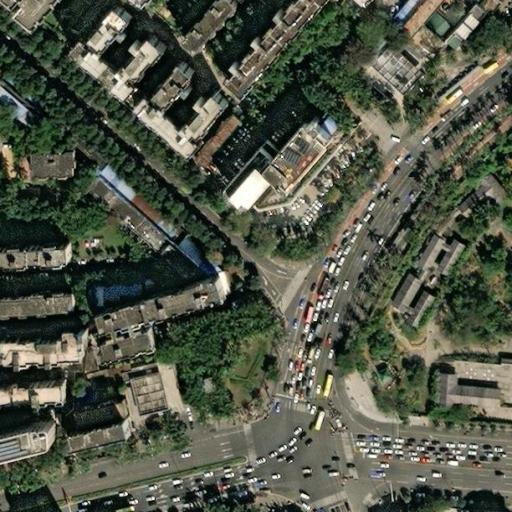building: (82, 19, 236, 171), (231, 126, 351, 235), (72, 175, 192, 281), (95, 275, 226, 334), (86, 164, 173, 241), (183, 1, 245, 65), (373, 270, 428, 330), (444, 0, 502, 56), (450, 173, 504, 229), (405, 227, 461, 278), (0, 330, 81, 365), (105, 332, 164, 372), (373, 51, 419, 96), (122, 372, 163, 420), (85, 431, 143, 462), (0, 291, 76, 313), (0, 423, 50, 456), (167, 236, 210, 274), (76, 405, 130, 434), (0, 247, 70, 268), (400, 0, 435, 37), (8, 380, 59, 405), (0, 79, 34, 116), (405, 28, 440, 63), (29, 155, 71, 183), (452, 385, 496, 408), (9, 0, 49, 22), (430, 2, 456, 28), (498, 153, 512, 183), (370, 368, 386, 383)
